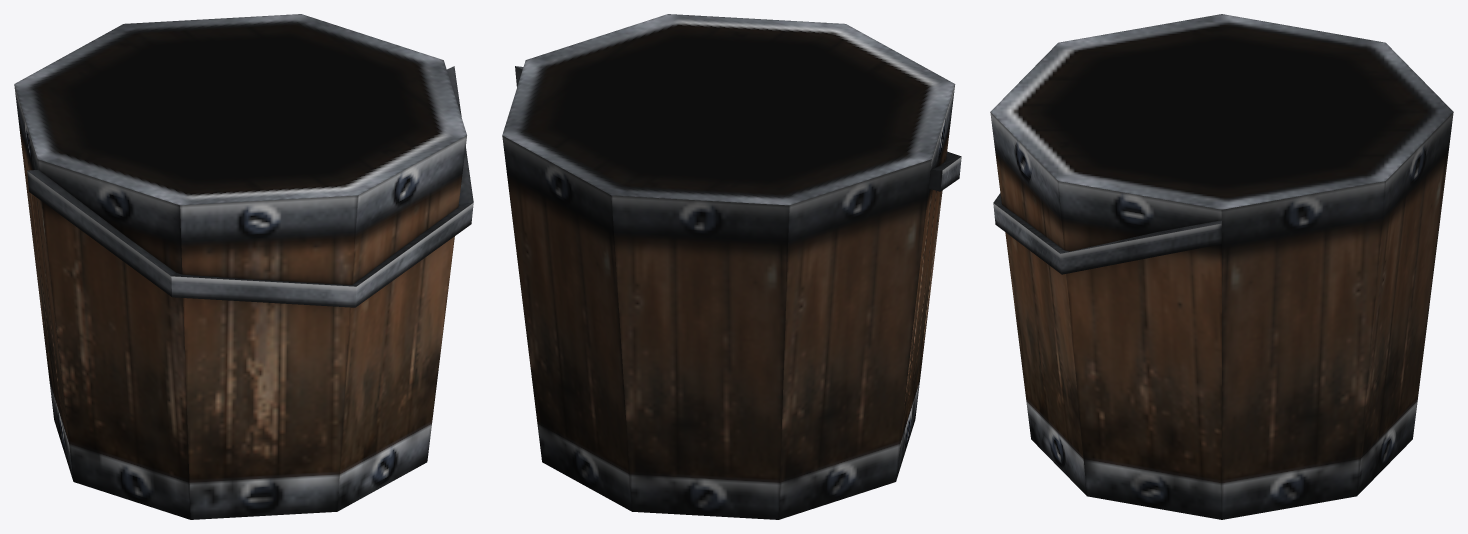
The model's file is Bucket_atlas.fbx.
The picture shows the model from 3 angles, left to right: view 1: azimuth 30°, elevation 25°; view 2: azimuth 150°, elevation 25°; view 3: azimuth 270°, elevation 25°; orthographic projection.
Parts seen in each view (by area): view 1: polySurface3; view 2: polySurface3; view 3: polySurface3.
Boxes of the visible parts, box(x1,y1,x2,y2) form: polySurface3: box(14, 14, 473, 519); polySurface3: box(502, 14, 961, 519); polySurface3: box(990, 14, 1453, 519).
Bounding box in the file's own units: 0.5391 × 0.3993 × 0.5121.
